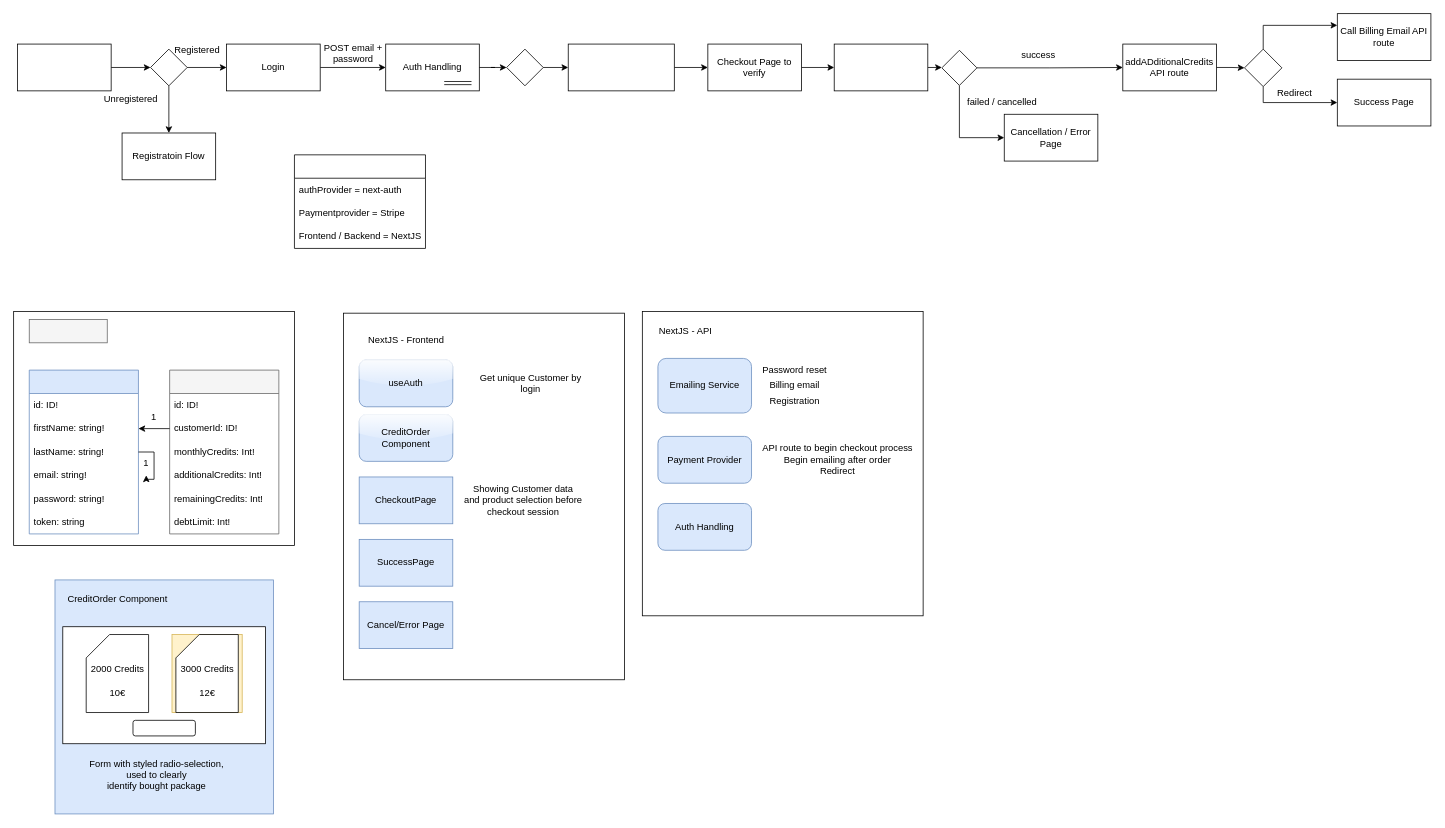
Image size: 1445x828. Some labels were removed from this diagram. Here are the shapes that lost their labels. From the top down, the box of each, then its label:
(17, 43, 111, 91): Customer opens website
(567, 43, 674, 91): Ordering on Page with CreditOrderComponent
(833, 43, 928, 91): PaymentProvider starts session
(294, 154, 425, 248): Techstack
(28, 319, 107, 343): Billing Service
(28, 369, 138, 534): Customer
(169, 369, 279, 534): Billing
(132, 720, 195, 736): Bestellen
